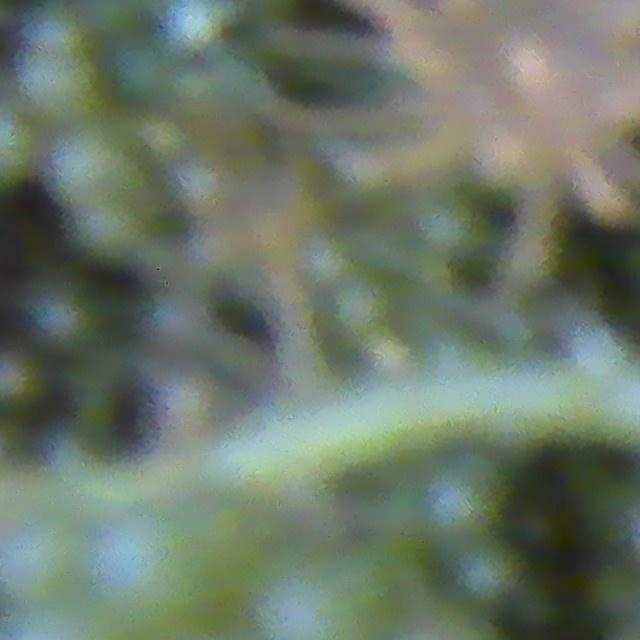SeaGrape: (86, 523, 210, 637), (420, 453, 505, 540), (50, 131, 133, 201), (69, 192, 157, 256), (0, 528, 73, 604), (20, 41, 93, 114), (27, 281, 97, 352), (455, 539, 523, 604), (27, 9, 95, 65)
